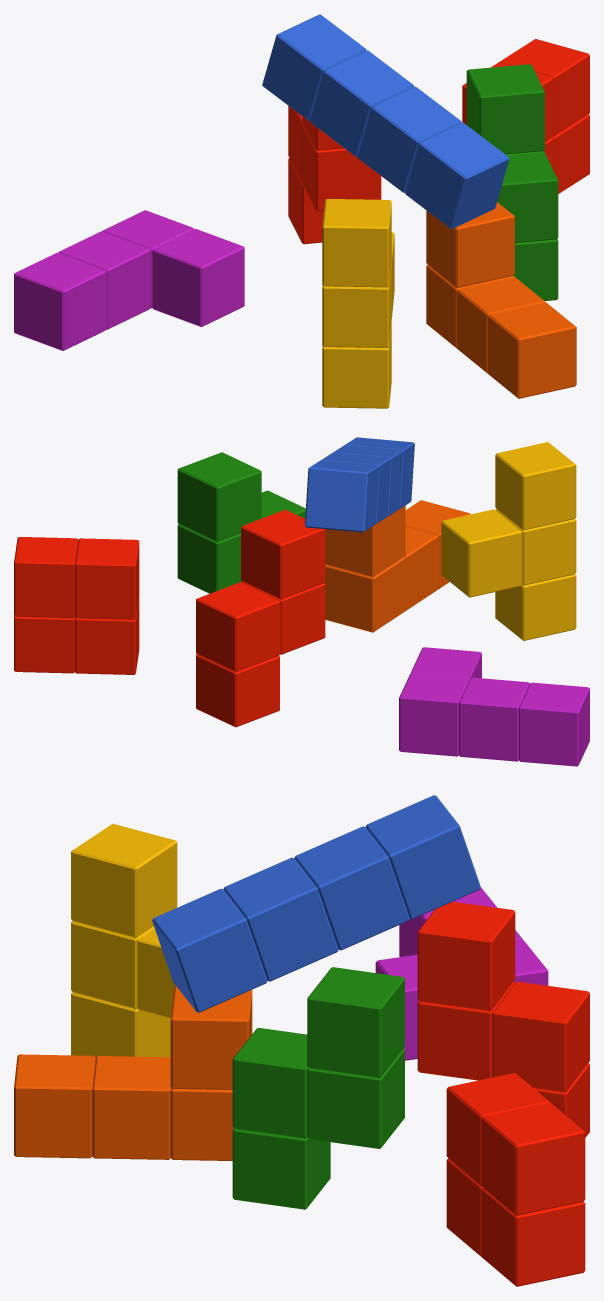
Rendered from Tetris.fbx.
3 renders of one model, top to bottom at view 1: azimuth 30°, elevation 25°; view 2: azimuth 150°, elevation 25°; view 3: azimuth 270°, elevation 25°, orthographic. The views are drawn at different scales.
Visible parts, largest first — view 1: Tower, Reverse L, L, T, Zigzag, Square, Reverse Zigzag; view 2: Reverse Zigzag, T, Square, Reverse L, L, Zigzag, Tower; view 3: Tower, Zigzag, L, Reverse Zigzag, Square, T, Reverse L.
Boxes of the visible parts, x1,y1,x2,y2 form: Tower: (262, 14, 509, 228); Reverse L: (14, 210, 244, 350); L: (426, 202, 576, 398); T: (322, 199, 394, 408); Zigzag: (466, 64, 558, 300); Square: (462, 39, 589, 193); Reverse Zigzag: (288, 106, 381, 244); Reverse Zigzag: (196, 509, 325, 727); T: (441, 442, 576, 640); Square: (14, 537, 139, 674); Reverse L: (399, 647, 589, 766); L: (324, 500, 470, 632); Zigzag: (177, 452, 305, 593); Tower: (305, 437, 414, 532); Tower: (152, 795, 480, 1012); Zigzag: (232, 967, 404, 1209); L: (14, 986, 252, 1160); Reverse Zigzag: (417, 901, 589, 1137); Square: (446, 1073, 585, 1286); T: (71, 823, 177, 1057); Reverse L: (375, 887, 548, 1060).
Bounding box in the file's own units: 2054 × 827 × 1468.
